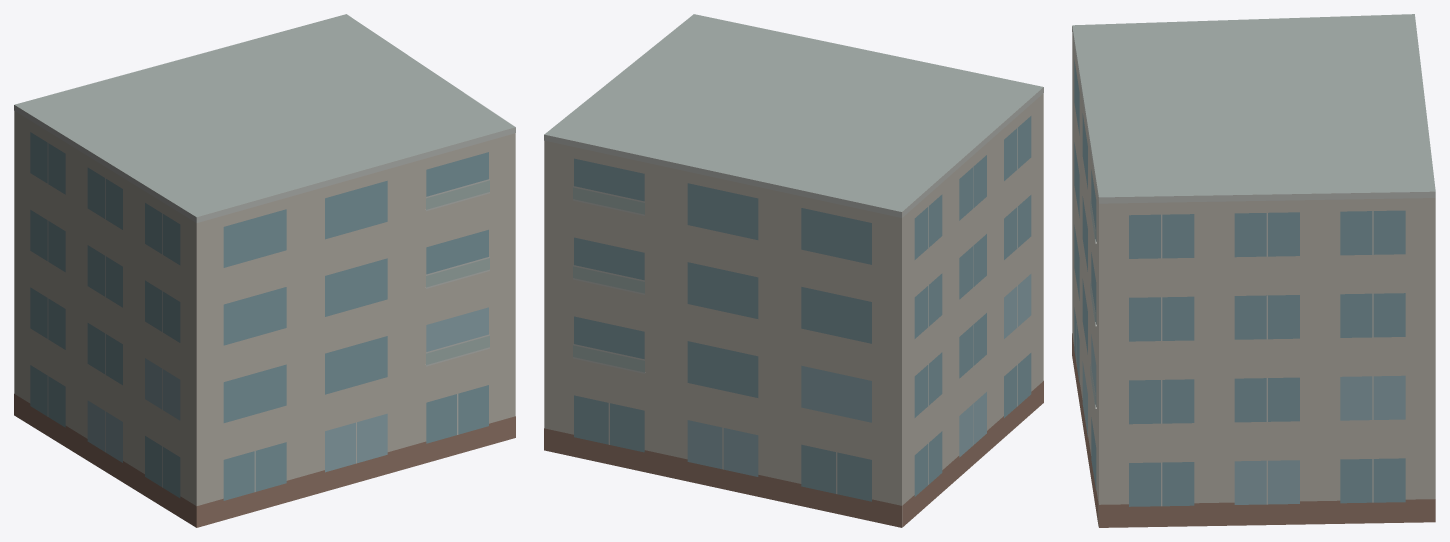
Rendered from survey-upis-32743162.glb.
The picture shows the model from 3 angles, left to right: view 1: azimuth 30°, elevation 25°; view 2: azimuth 150°, elevation 25°; view 3: azimuth 270°, elevation 25°; orthographic projection. The views are drawn at different scales.
Parts seen in each view (by area): view 1: survey-upis-32743162.tmp; view 2: survey-upis-32743162.tmp; view 3: survey-upis-32743162.tmp.
Part boxes in pixels (box(x1,y1,x2,y2)): survey-upis-32743162.tmp: box(14, 14, 515, 527); survey-upis-32743162.tmp: box(544, 14, 1043, 527); survey-upis-32743162.tmp: box(1072, 14, 1435, 527).
Bounding box in the file's own units: 15.36 × 12.9 × 12.87.
